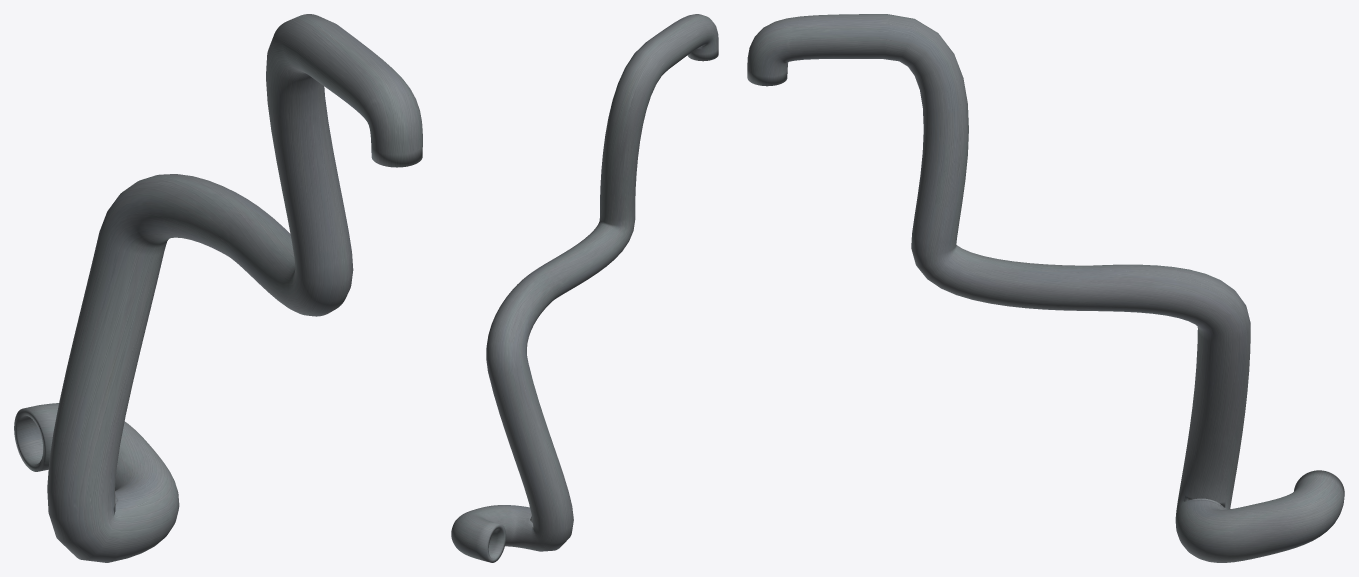
File: TurboCharger_Small_Intercooler_Pipe.obj
3 views of the same model, side by side, from view 1: azimuth 30°, elevation 25°; view 2: azimuth 150°, elevation 25°; view 3: azimuth 270°, elevation 25° (orthographic). The views are drawn at different scales.
Visible parts, largest first — view 1: TurboCharger_Small_Intercooler_Pipe_BezierCurve.019; view 2: TurboCharger_Small_Intercooler_Pipe_BezierCurve.019; view 3: TurboCharger_Small_Intercooler_Pipe_BezierCurve.019.
Boxes of the visible parts, left/top/right/bottom form: TurboCharger_Small_Intercooler_Pipe_BezierCurve.019: left=14, top=14, right=422, bottom=562; TurboCharger_Small_Intercooler_Pipe_BezierCurve.019: left=451, top=14, right=718, bottom=562; TurboCharger_Small_Intercooler_Pipe_BezierCurve.019: left=747, top=14, right=1344, bottom=562.
Size of the model in its own units: 0.1113 by 0.4993 by 0.5065.
